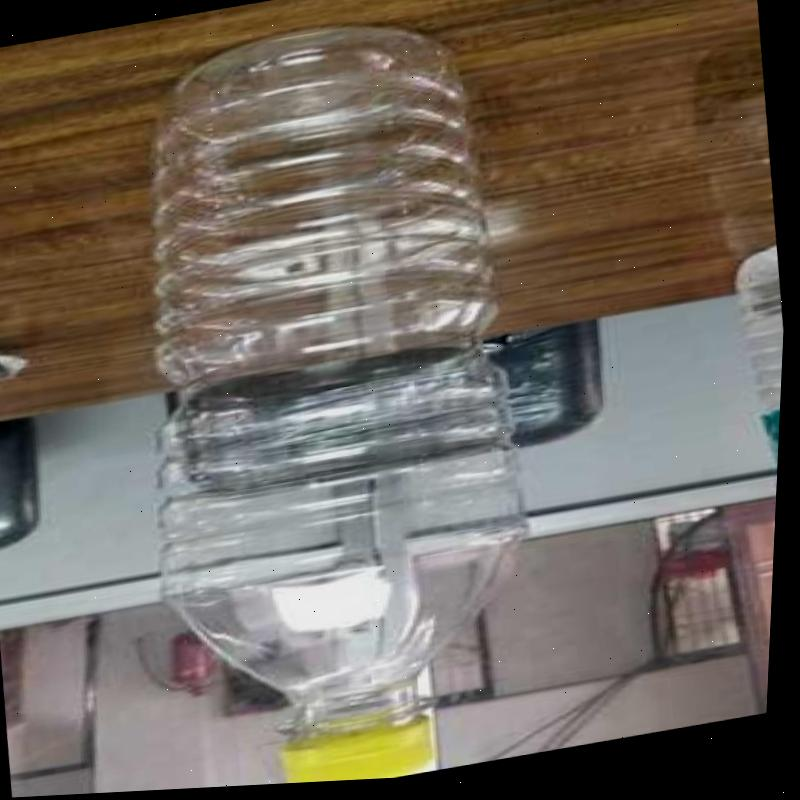botella: (95, 0, 574, 795), (723, 251, 790, 529)
